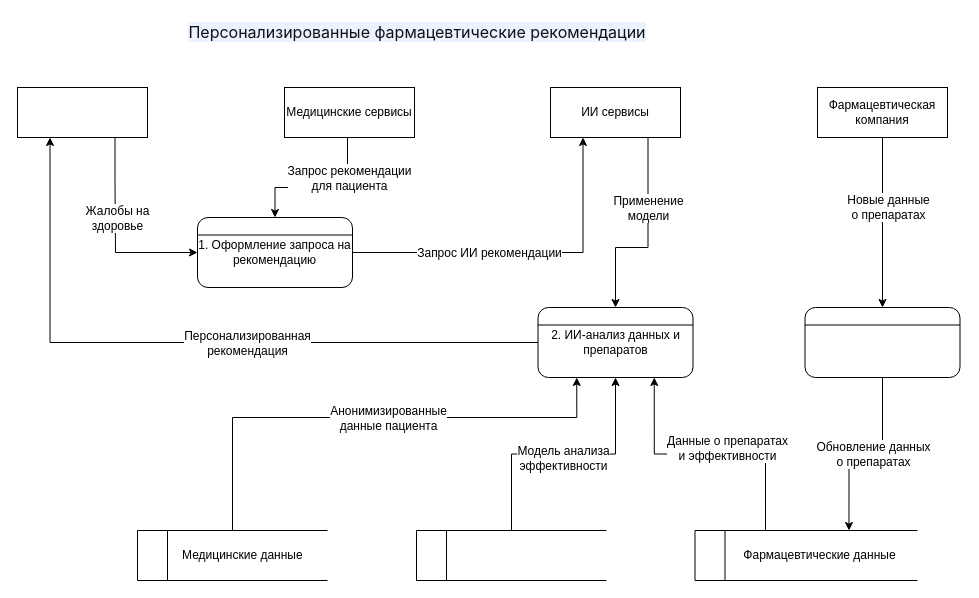
Some shapes in this 979 by 598 pixel diagram are drawn without their labels. The shapes that lost their labels are listed below. From the top down, each one's centre as x and y in pixels, then its label:
(x=82, y=112): Пациент
(x=882, y=342): 3. Принятие решение о кредите
(x=511, y=555): ИИ модели
